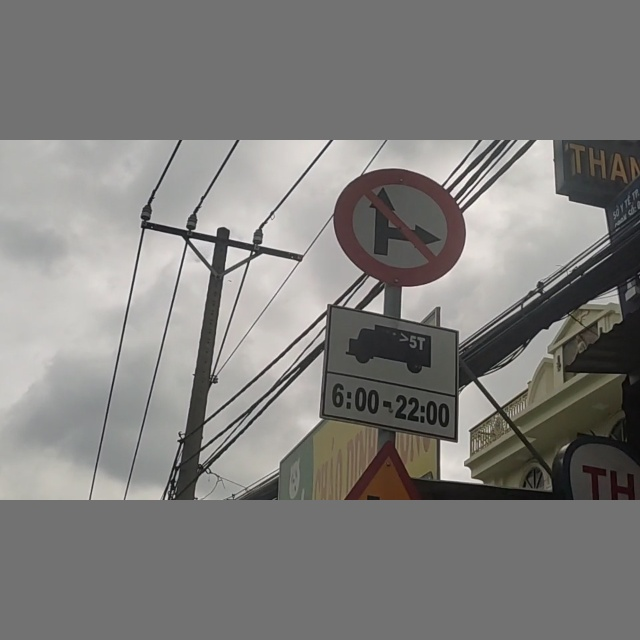P.139: (337, 172, 463, 281)
S.505a*Xe tai: (323, 309, 461, 436)
